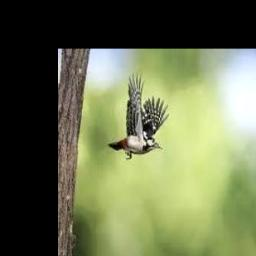Woodpecker: (109, 69, 170, 160)
